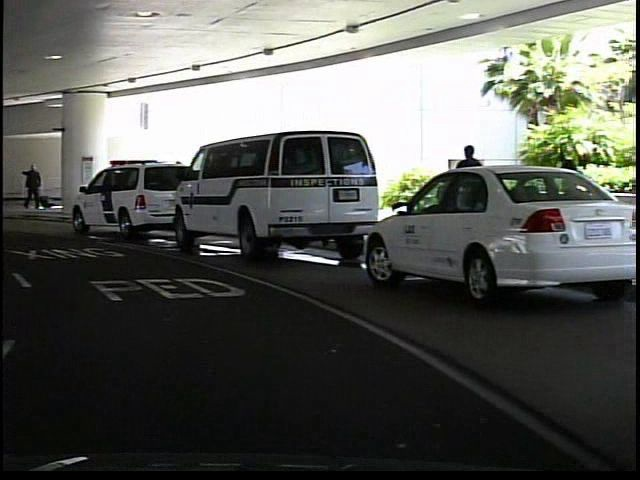person: (448, 141, 483, 253), (18, 156, 45, 215)
